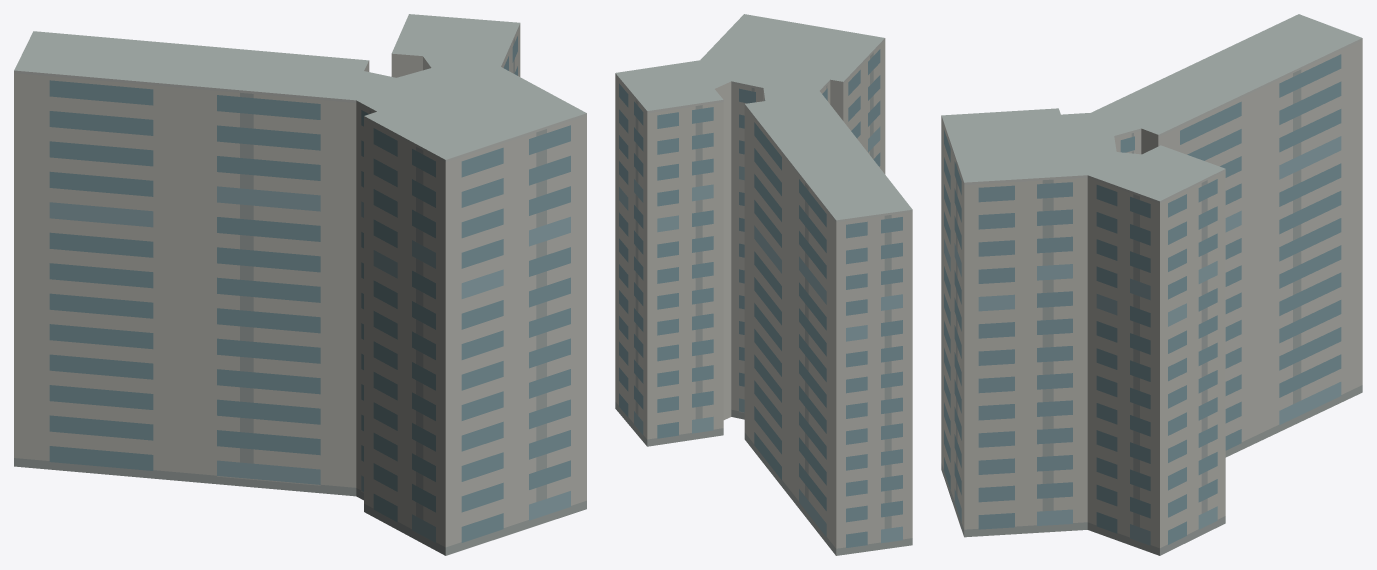
The model's file is residential-d7f86c6a-da6a-4cff-98cf-09f40aa71832.glb.
The picture shows the model from 3 angles, left to right: view 1: azimuth 30°, elevation 25°; view 2: azimuth 150°, elevation 25°; view 3: azimuth 270°, elevation 25°; orthographic projection. The views are drawn at different scales.
Visible parts, largest first — view 1: residential-d7f86c6a-da6a-4cff-98cf-09f40aa71832.tmp; view 2: residential-d7f86c6a-da6a-4cff-98cf-09f40aa71832.tmp; view 3: residential-d7f86c6a-da6a-4cff-98cf-09f40aa71832.tmp.
Part boxes in pixels (box(x1,y1,x2,y2)): residential-d7f86c6a-da6a-4cff-98cf-09f40aa71832.tmp: box(14, 14, 586, 555); residential-d7f86c6a-da6a-4cff-98cf-09f40aa71832.tmp: box(615, 14, 912, 555); residential-d7f86c6a-da6a-4cff-98cf-09f40aa71832.tmp: box(941, 14, 1362, 555).
Bounding box in the file's own units: 43.06 × 38 × 40.9.
